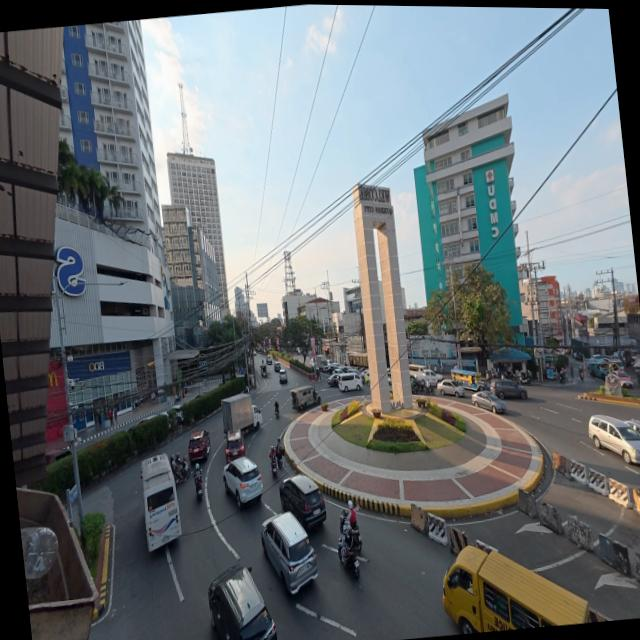car: (259, 509, 321, 600), (219, 453, 265, 509), (489, 375, 526, 402)
